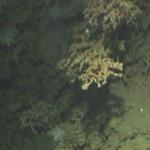alive: (6, 5, 140, 147)
